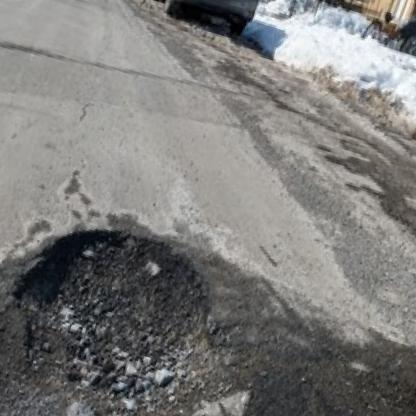pothole: (0, 203, 252, 416)
